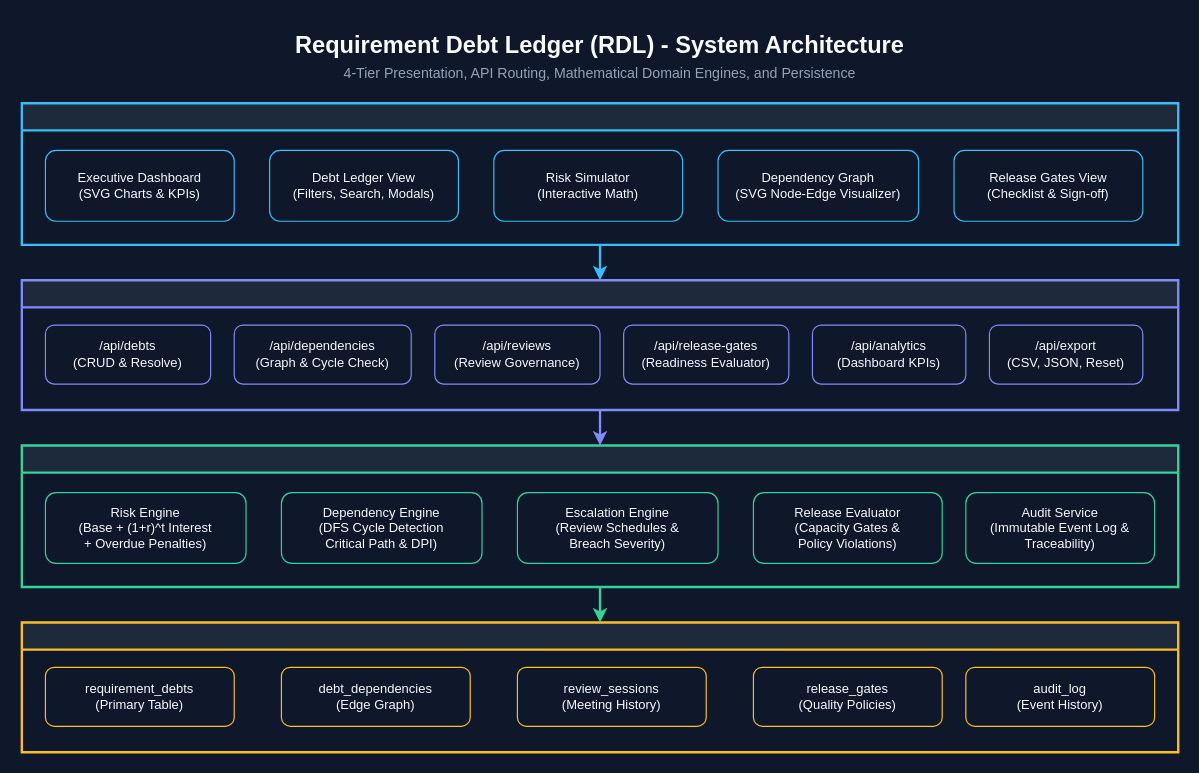
This 1199x773 diagram has some shape labels left out. Each missing label, with the box of its shape:
APPLICATION & ROUTING TIER (Python FastAPI): (20, 278, 1179, 411)
DOMAIN ENGINES & METHODOLOGY SERVICES: (20, 444, 1179, 588)
PERSISTENCE TIER (SQLite 3.50 Persistent Database): (20, 621, 1179, 753)
PRESENTATION TIER (HTML5, CSS3, Vanilla JavaScript SPA): (20, 101, 1179, 245)
